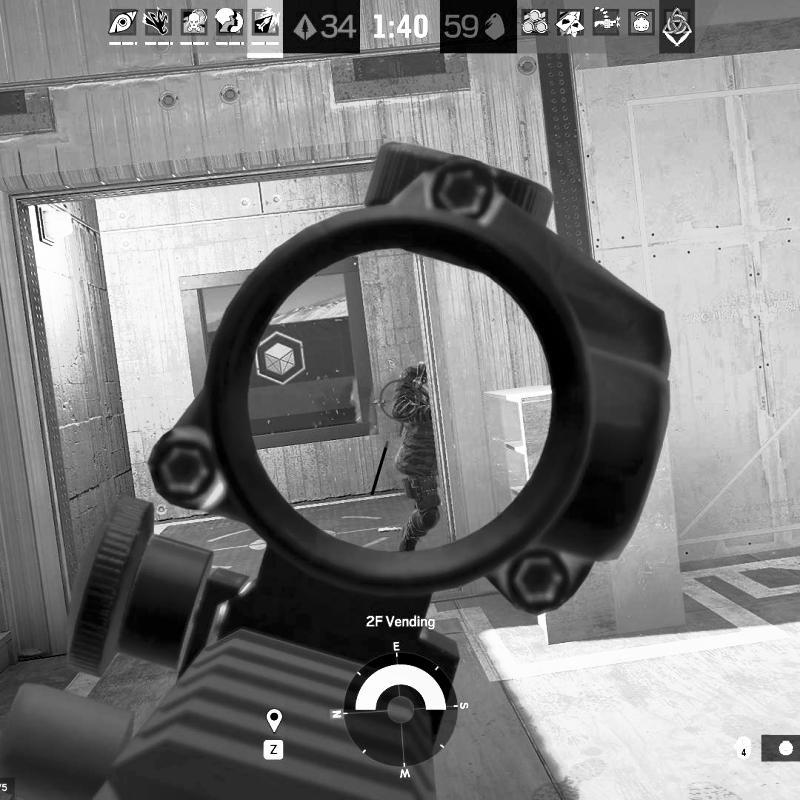Character: (392, 360, 443, 555)
